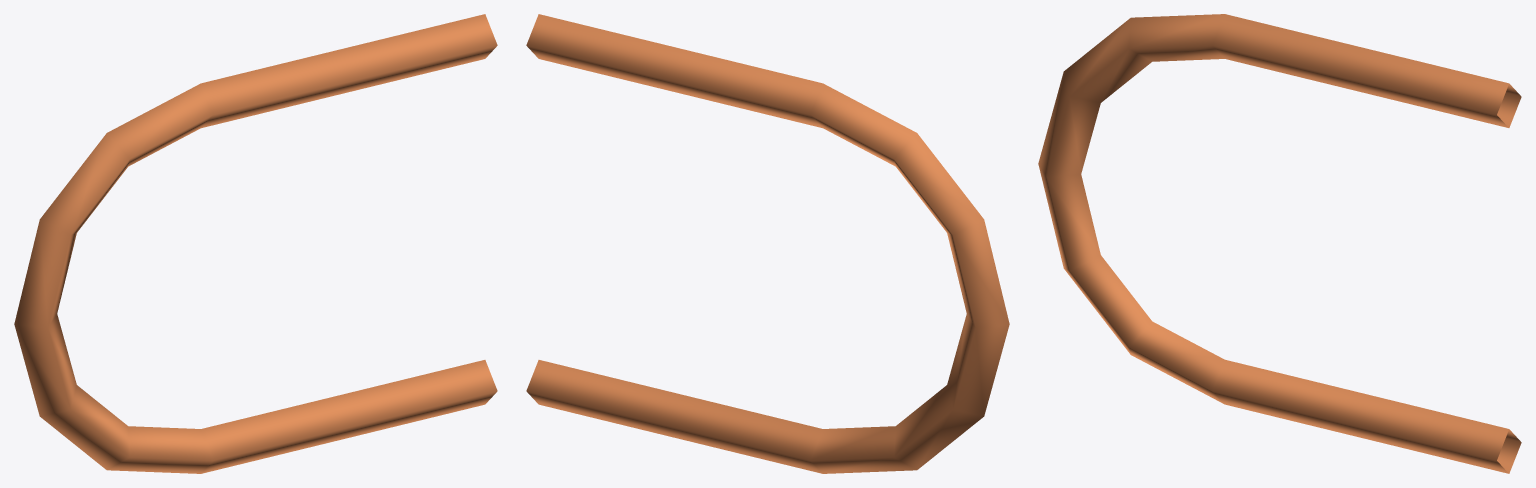
Rendered from ZipLine_End.fbx.
3 views of the same model, side by side, from view 1: azimuth 30°, elevation 25°; view 2: azimuth 150°, elevation 25°; view 3: azimuth 330°, elevation 25° (orthographic).
Visible parts, largest first — view 1: ZipLine_End; view 2: ZipLine_End; view 3: ZipLine_End.
Boxes of the visible parts, x1=… form: ZipLine_End: x1=14, y1=14, x2=497, y2=473; ZipLine_End: x1=526, y1=14, x2=1009, y2=473; ZipLine_End: x1=1038, y1=14, x2=1521, y2=473.
Bounding box in the file's own units: 0.4957 × 0.3928 × 0.0452.
